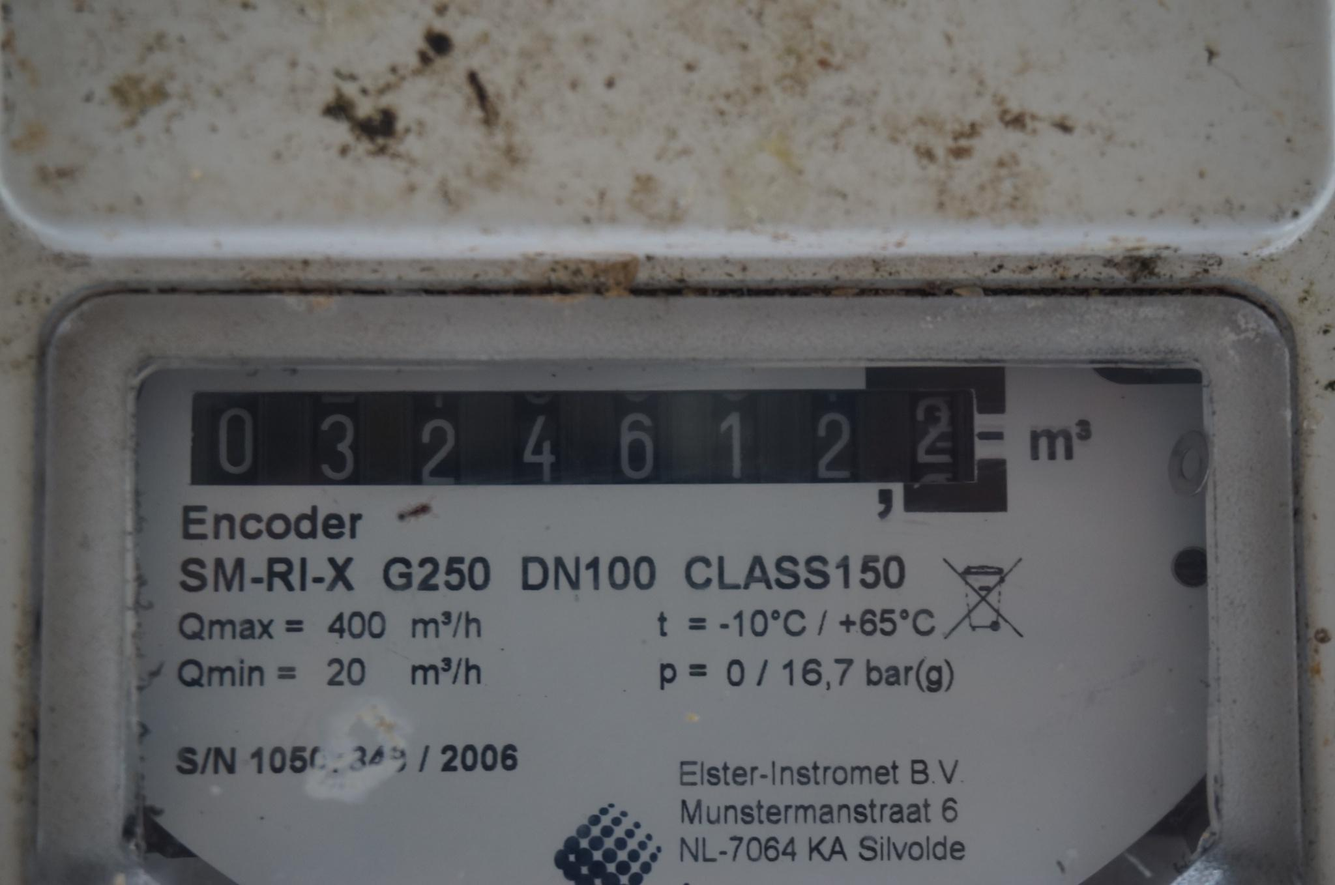analog_dial: (173, 349, 1019, 556)
